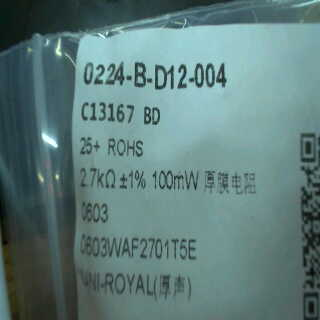2.7kR: (77, 164, 117, 192)
